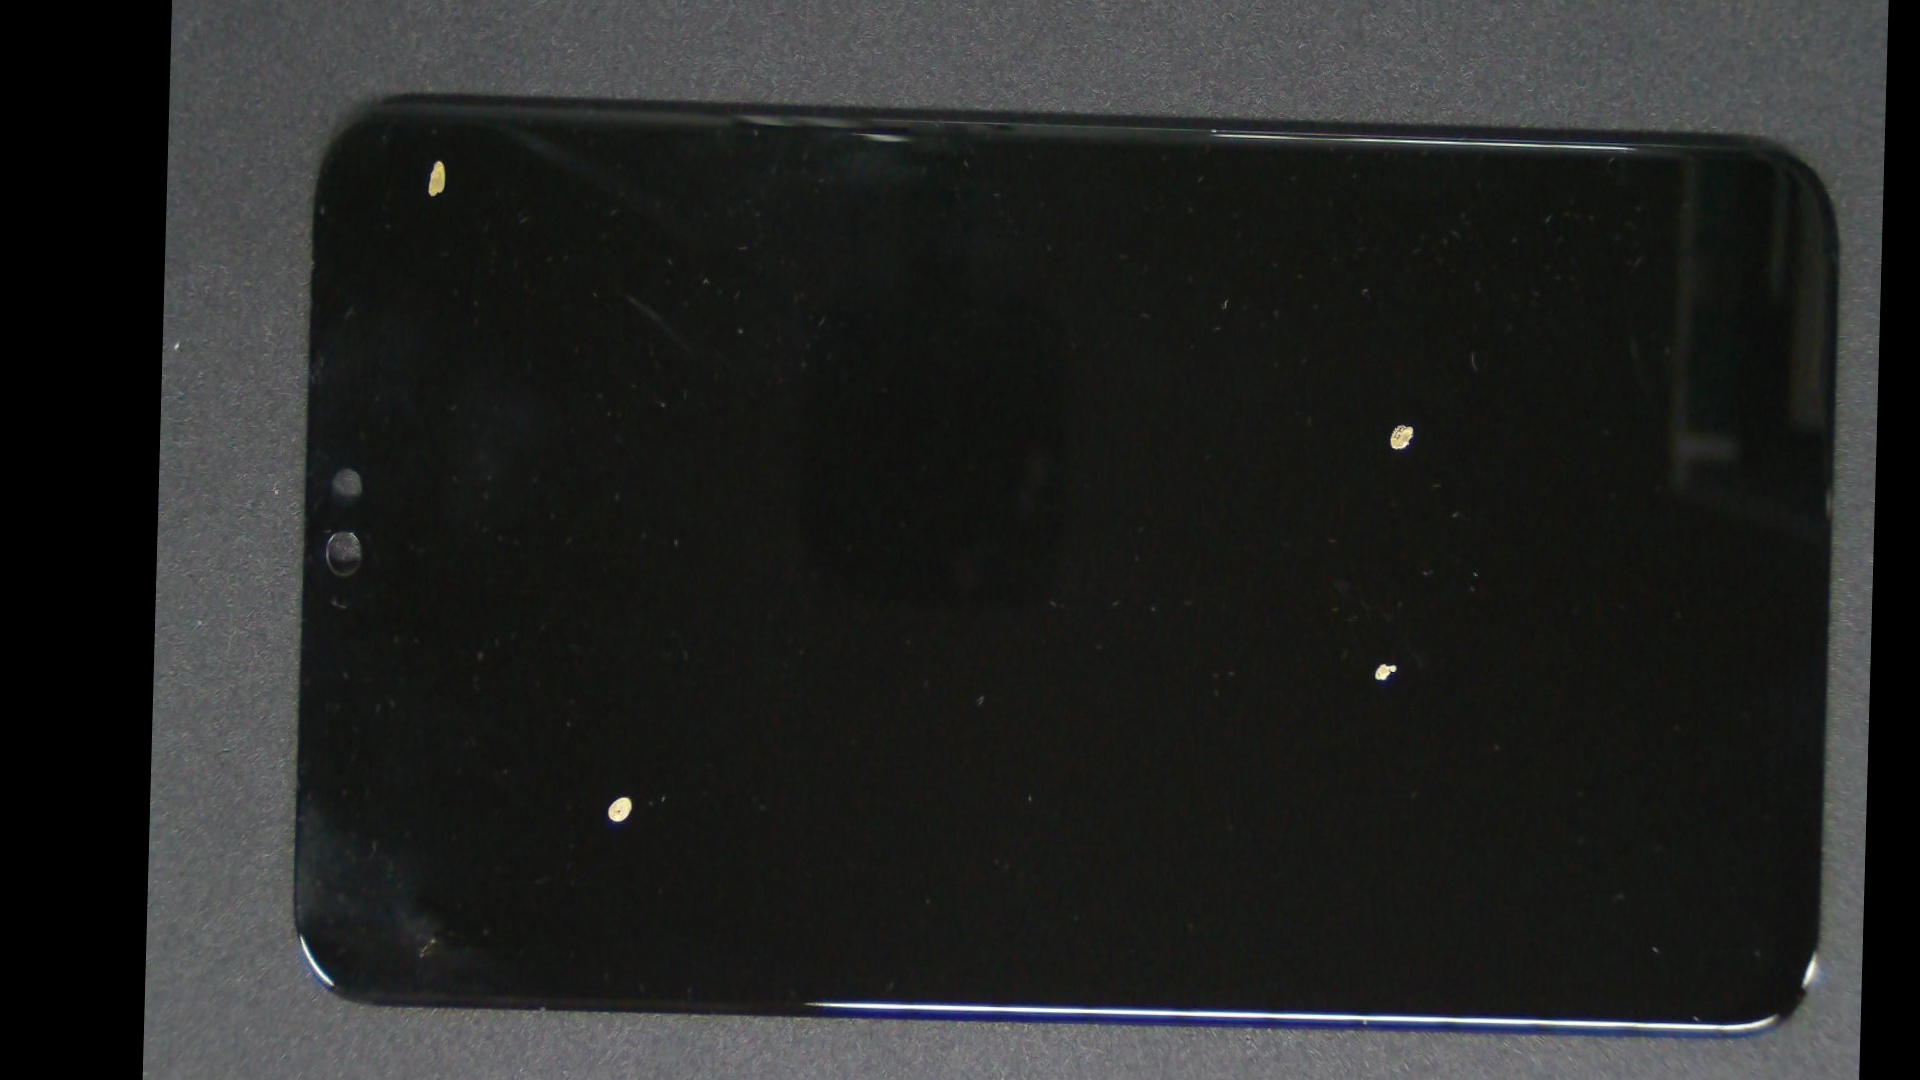oil: (760, 277, 1880, 1044), (774, 157, 1883, 684), (380, 343, 874, 1080), (301, 25, 578, 294)
